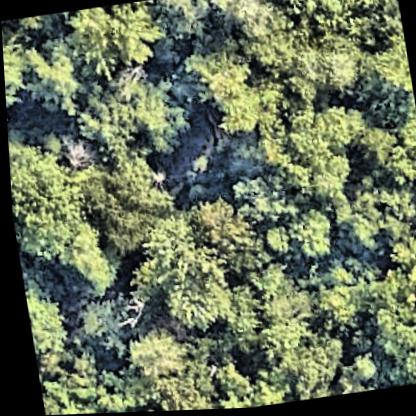tree-top: (132, 222, 240, 343), (6, 134, 96, 273), (71, 69, 194, 166), (249, 107, 362, 208), (81, 153, 180, 252), (350, 253, 416, 391), (222, 265, 314, 356), (64, 0, 164, 80), (178, 42, 265, 127), (39, 216, 124, 301), (332, 178, 416, 258), (18, 34, 94, 122), (1, 29, 76, 117), (115, 320, 192, 395), (286, 36, 369, 104), (270, 333, 350, 401), (20, 278, 77, 373), (352, 35, 415, 120), (220, 170, 293, 236), (36, 358, 113, 415), (69, 294, 136, 358), (206, 362, 292, 411), (204, 0, 285, 50), (280, 206, 338, 266), (186, 195, 241, 258), (1, 23, 35, 111), (146, 0, 212, 45), (384, 107, 416, 193), (325, 353, 383, 397), (1, 11, 74, 42)
